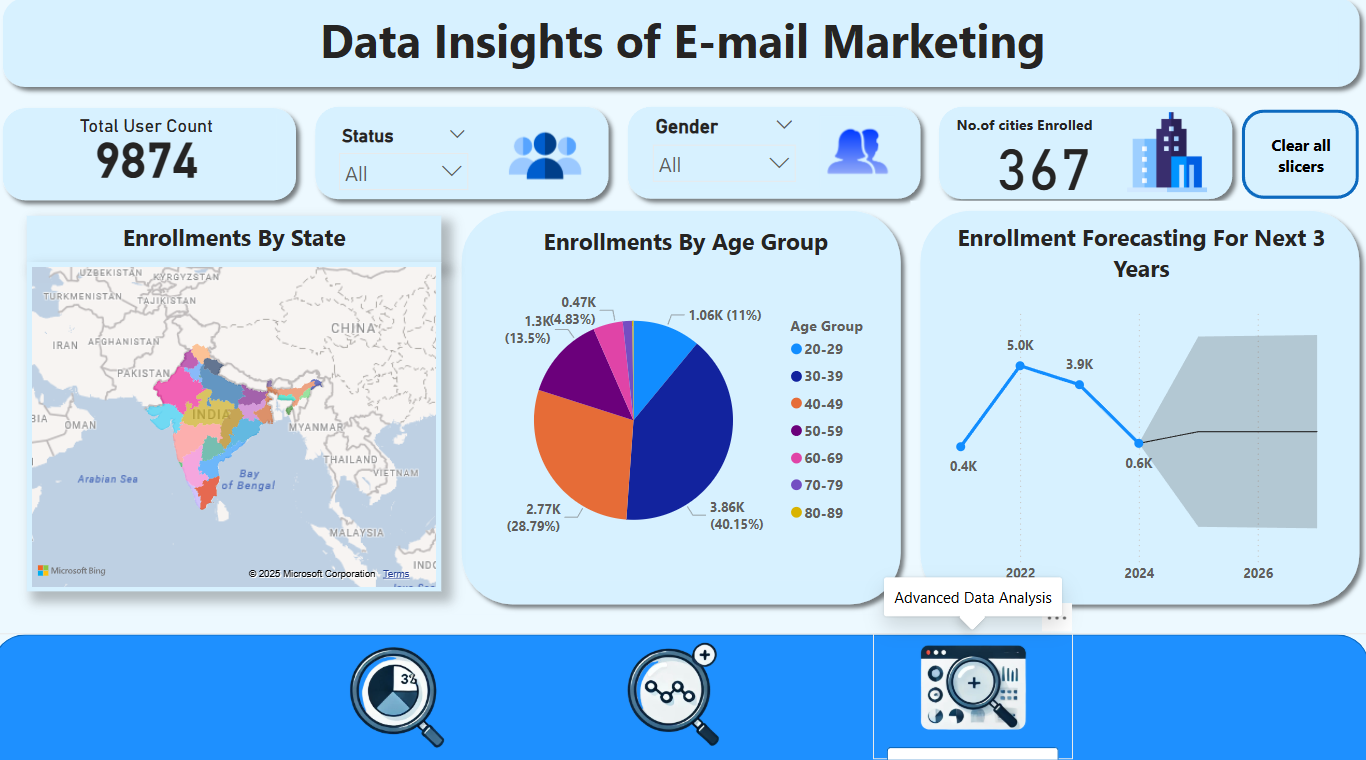

The dashboard page shown, as its layout file describes it:
{"tool":"powerbi","page":{"name":"Overview","canvas":[1280,720],"ordinal":0},"visuals":[{"type":"shape","box":[0,1.4,1280.3,100.9],"z":0,"group":"g3"},{"type":"group","id":"g1","title":"Group 2","box":[290.4,102.3,291.8,103.6],"z":0,"group":"g5"},{"type":"group","id":"g2","title":"Group 6","box":[426.3,211.8,427.7,372],"z":0},{"type":"shape","box":[0,601.6,1280.3,118.6],"z":0,"group":"g13"},{"type":"shape","box":[0,102.3,290.9,104],"z":500,"group":"g4"},{"type":"shape","box":[290.4,102.3,290.9,104],"z":500,"group":"g1"},{"type":"shape","box":[871.2,102.3,290.9,104],"z":500,"group":"g6"},{"type":"group","id":"g3","title":"Group 1","box":[0,1.4,1280.3,100.9],"z":1000},{"type":"shape","box":[580.8,102.3,290.4,103.6],"z":1000,"group":"g7"},{"type":"slicer","title":"Year","fields":{"Values":["TBL_CustomerProfileData.Enrolled on .Variation.Date Hierarchy.Year"]},"box":[312.1,117.3,136.5,72.4],"z":1000,"group":"g5"},{"type":"shape","box":[0,211.8,426.3,372],"z":1000,"group":"g9"},{"type":"shape","box":[426.3,211.8,427.7,372],"z":1000,"group":"g10"},{"type":"shape","box":[852.6,211.8,427.7,372],"z":1000,"group":"g12"},{"type":"image","box":[290.4,600.9,160.9,120],"z":1000,"group":"g13"},{"type":"textbox","box":[31.4,15.9,1220.3,70.9],"z":1500,"group":"g3"},{"type":"pieChart","fields":{"Category":["TBL_CustomerProfileData.Living status"],"Y":["CountNonNull(TBL_CustomerProfileData.Id)"]},"box":[453.9,255.9,372.2,283.6],"z":2000},{"type":"image","box":[552.4,601.4,165,118.6],"z":2000,"group":"g13"},{"type":"group","id":"g4","title":"Group 2","box":[0,102.3,290.9,104],"z":3000},{"type":"image","box":[818.1,601.3,186.8,117.3],"z":3000,"group":"g13"},{"type":"group","id":"g5","title":"Group 3","box":[290.4,102.3,291.8,103.6],"z":4000},{"type":"group","id":"g6","title":"Group 2","box":[871.2,102.3,290.4,103.6],"z":4000,"group":"g8"},{"type":"group","id":"g7","title":"Group 4","box":[580.8,102.3,290.4,103.6],"z":5000},{"type":"group","id":"g8","title":"Group 7","box":[871.2,102.3,290.4,103.6],"z":6000},{"type":"card","title":"Dominating marital Status","fields":{"Values":["Min(TBL_CustomerProfileData.MaritalStatus)"]},"box":[22.3,117.3,171.4,72.4],"z":6000,"group":"g4"},{"type":"card","title":"No.of cities Enrolled","fields":{"Values":["Count(TBL_CustomerProfileData.City)"]},"box":[889,136.8,181.1,57.1],"z":6000,"group":"g8"},{"type":"textbox","box":[884.8,114.5,189.5,27.9],"z":7000,"group":"g8"},{"type":"slicer","fields":{"Values":["TBL_CustomerProfileData.State"]},"box":[599.2,118.6,253.5,71],"z":7000,"group":"g7"},{"type":"group","id":"g9","title":"Group 5","box":[0,211.8,426.3,372],"z":7000},{"type":"group","id":"g10","title":"Group 5","box":[426.3,211.8,427.7,372],"z":8000,"group":"g2"},{"type":"group","id":"g11","title":"Group 6","box":[852.6,211.8,427.7,372],"z":8000},{"type":"group","id":"g12","title":"Group 5","box":[852.6,211.8,427.7,372],"z":8000,"group":"g11"},{"type":"textbox","box":[72.2,224.4,280.6,42.3],"z":9000},{"type":"textbox","box":[925,224.5,281.5,42.3],"z":9000,"group":"g11"},{"type":"textbox","box":[497.6,225.3,314.6,42.4],"z":9000,"group":"g2"},{"type":"shape","box":[1161.7,114.5,109.1,83.2],"z":10000},{"type":"columnChart","fields":{"Y":["CountNonNull(TBL_CustomerProfileData.Id)"],"Category":["TBL_CustomerProfileData.GenderCode"]},"box":[31.2,252.3,366.5,288.8],"z":10001,"group":"g9"},{"type":"lineChart","fields":{"Category":["TBL_CustomerProfileData.Enrolled on .Variation.Date Hierarchy.Month"],"Y":["CountNonNull(TBL_CustomerProfileData.Id)"]},"box":[883.9,252.3,367.7,288.8],"z":10001,"group":"g12"},{"type":"actionButton","box":[1178,126.8,77.7,60],"z":11000},{"type":"group","id":"g13","title":"Group 8","box":[0,600.9,1280.3,120],"z":12000},{"type":"shape","box":[291.4,706.8,160,12.9],"z":12001,"group":"g13"},{"type":"image","box":[454.2,118.4,100.3,69.7],"z":13000},{"type":"image","box":[176.9,121.9,96.1,65.5],"z":14000},{"type":"image","box":[1050.4,121.2,94.7,65.5],"z":15000}]}

Visuals, with their boxes in screenshot pixels (x1, y1, x2, y2), scaled from the page's 1280x720 canvas onto the 1366x760 screenshot:
shape: (0,1,1365,108)
"Group 2" group: (310,108,621,217)
"Group 6" group: (455,224,911,616)
shape: (0,635,1365,759)
shape: (0,108,310,218)
shape: (310,108,620,218)
shape: (930,108,1240,218)
"Group 1" group: (0,1,1365,108)
shape: (620,108,930,217)
"Year" slicer: (333,124,479,200)
shape: (0,224,455,616)
shape: (455,224,911,616)
shape: (910,224,1365,616)
image: (310,634,482,759)
textbox: (34,17,1336,92)
pieChart - TBL_CustomerProfileData.Living status x CountNonNull(TBL_CustomerProfileData.Id): (484,270,882,569)
image: (590,635,766,759)
"Group 2" group: (0,108,310,218)
image: (873,635,1072,759)
"Group 3" group: (310,108,621,217)
"Group 2" group: (930,108,1240,217)
"Group 4" group: (620,108,930,217)
"Group 7" group: (930,108,1240,217)
"Dominating marital Status" card: (24,124,207,200)
"No.of cities Enrolled" card: (949,144,1142,205)
textbox: (944,121,1146,150)
slicer - TBL_CustomerProfileData.State: (639,125,910,200)
"Group 5" group: (0,224,455,616)
"Group 5" group: (455,224,911,616)
"Group 6" group: (910,224,1365,616)
"Group 5" group: (910,224,1365,616)
textbox: (77,237,377,282)
textbox: (987,237,1288,282)
textbox: (531,238,867,283)
shape: (1240,121,1356,209)
columnChart - CountNonNull(TBL_CustomerProfileData.Id) x TBL_CustomerProfileData.GenderCode: (33,266,424,571)
lineChart - TBL_CustomerProfileData.Enrolled on .Variation.Date Hierarchy.Month x CountNonNull(TBL_CustomerProfileData.Id): (943,266,1336,571)
actionButton: (1257,134,1340,197)
"Group 8" group: (0,634,1365,759)
shape: (311,746,482,759)
image: (485,125,592,199)
image: (189,129,291,198)
image: (1121,128,1222,197)
